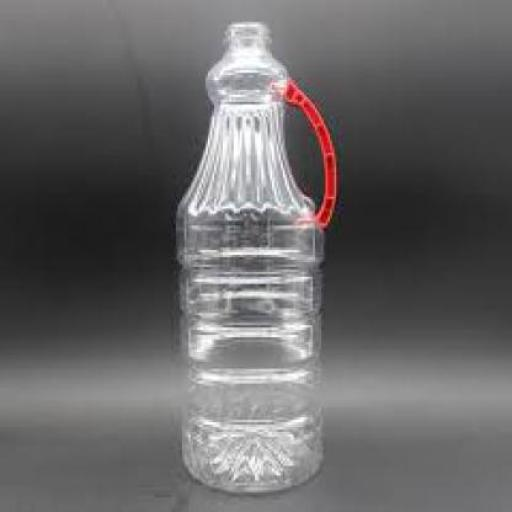plastic: (172, 19, 334, 493)
